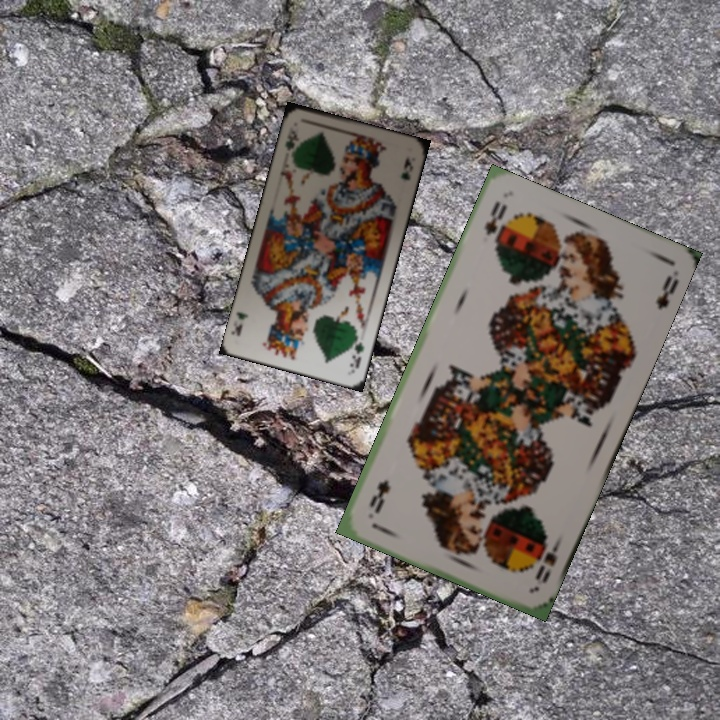GK: (346, 331, 367, 371), (280, 124, 301, 153)
SO: (531, 534, 564, 586), (480, 197, 510, 238)
